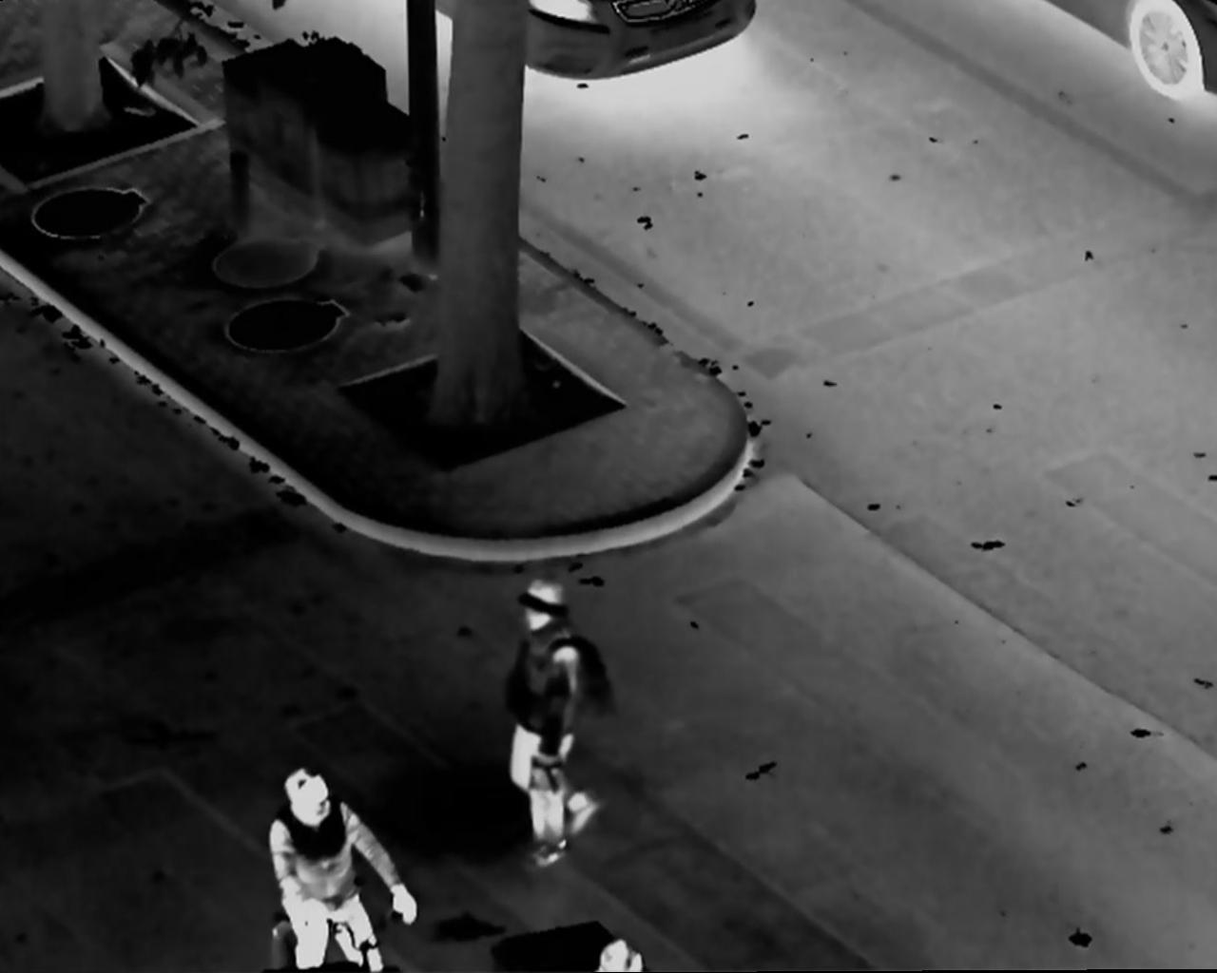person: (498, 580, 615, 872), (269, 769, 418, 973)
